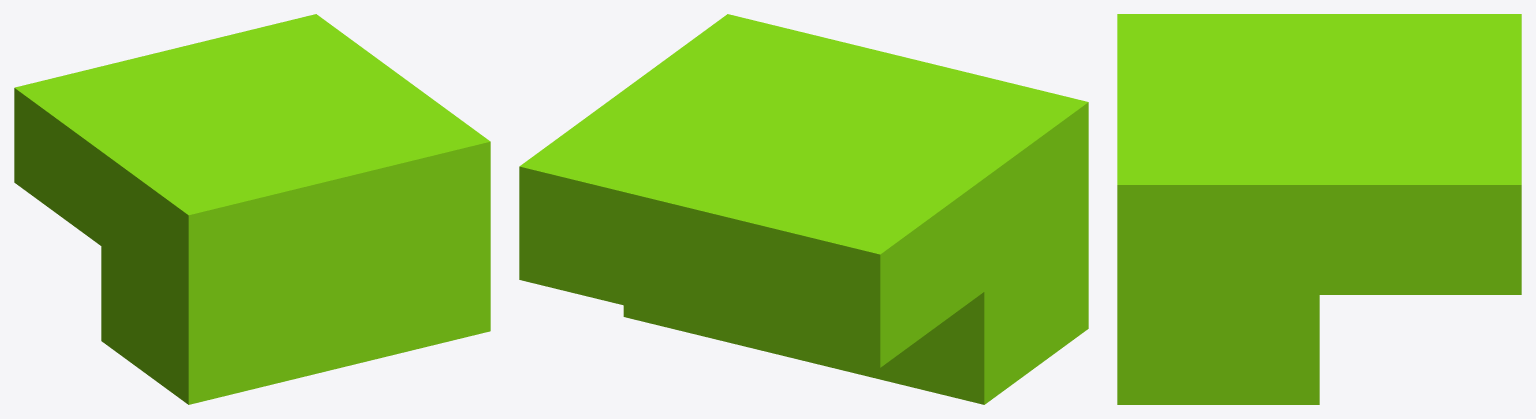
The model's file is Helmet.fbx.
3 views of the same model, side by side, from view 1: azimuth 30°, elevation 25°; view 2: azimuth 150°, elevation 25°; view 3: azimuth 270°, elevation 25° (orthographic). The views are drawn at different scales.
Visible parts, largest first — view 1: Group1; view 2: Group1; view 3: Group1.
Part boxes in pixels (bbox=[...]): Group1: bbox=[14, 14, 490, 404]; Group1: bbox=[519, 14, 1088, 404]; Group1: bbox=[1117, 14, 1521, 404].
Size of the model in its own units: 100 by 60 by 100.
